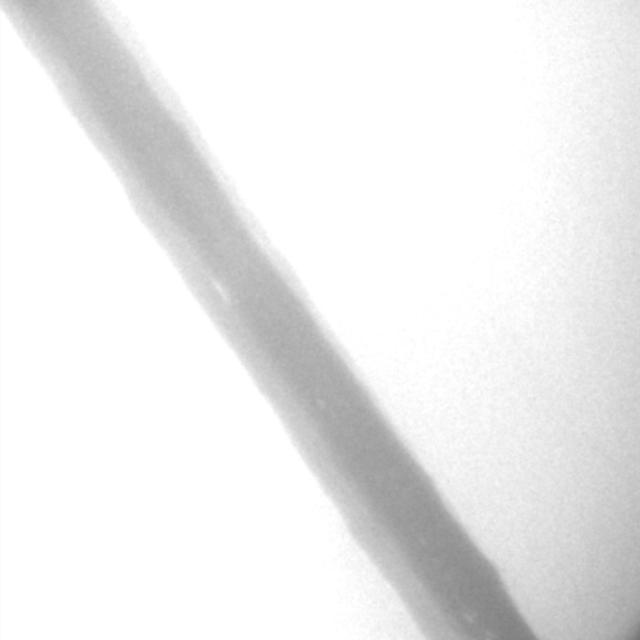air hole: (210, 275, 228, 298)
